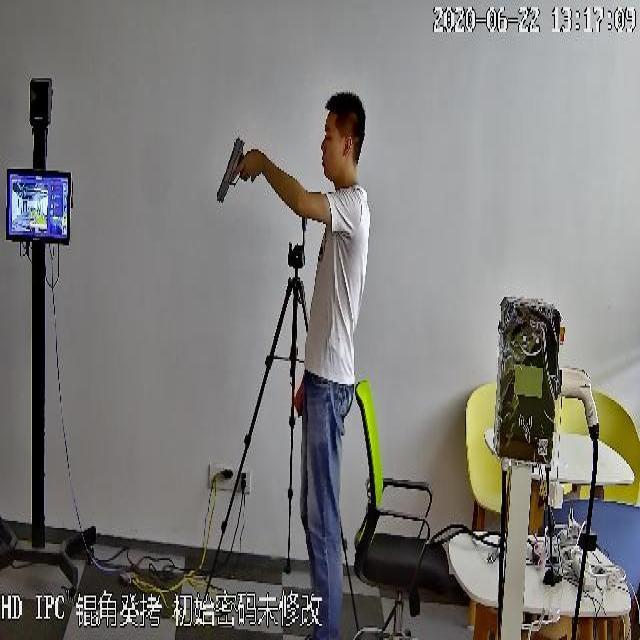pistol: (217, 132, 250, 212)
